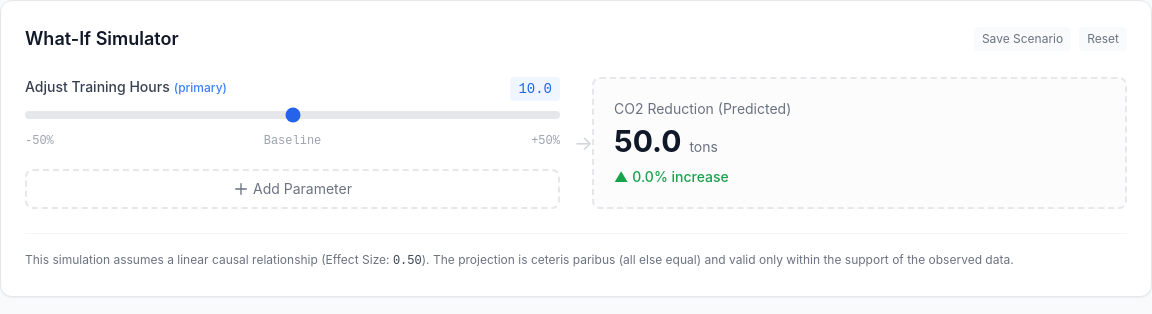
Test: InterventionSimulator › updates prediction when treatment slider changes
Set the slider with test id "treatment-slider" to "15" at (552, 115), box [25, 111, 560, 119]
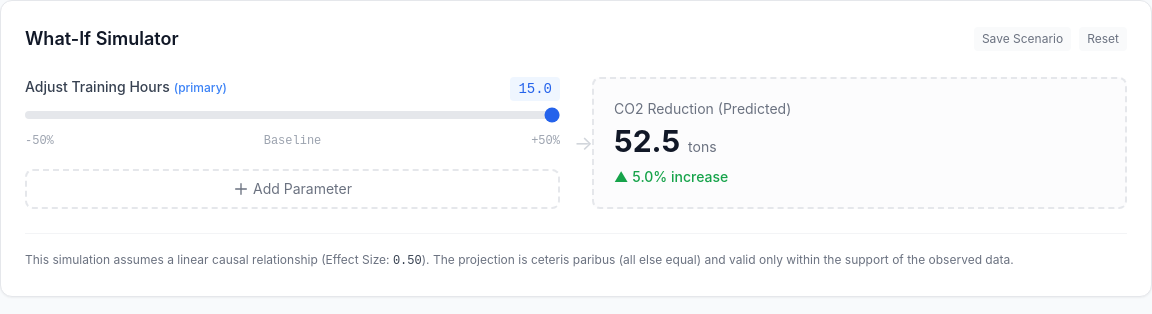
Check: the element with test id "predicted-outcome" shows "52.5", box [614, 123, 680, 159]
